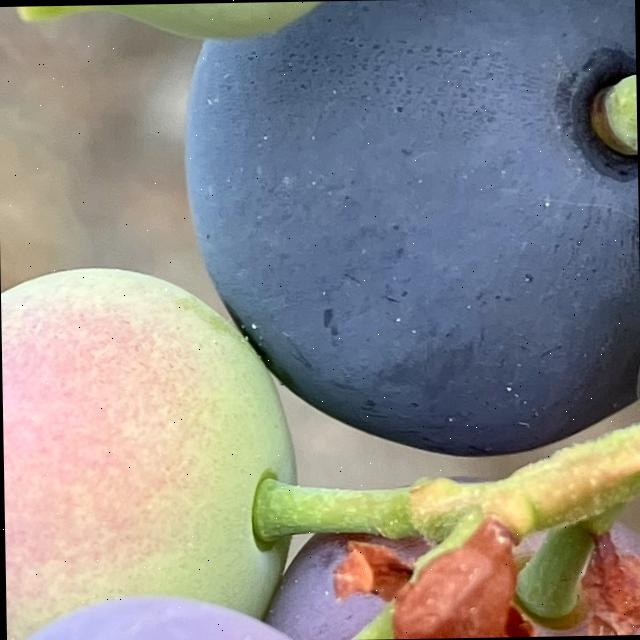Blueberries: (168, 0, 640, 460), (0, 241, 314, 640)
